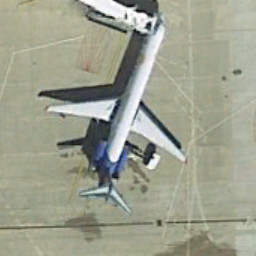Airplane: (38, 11, 199, 216)
